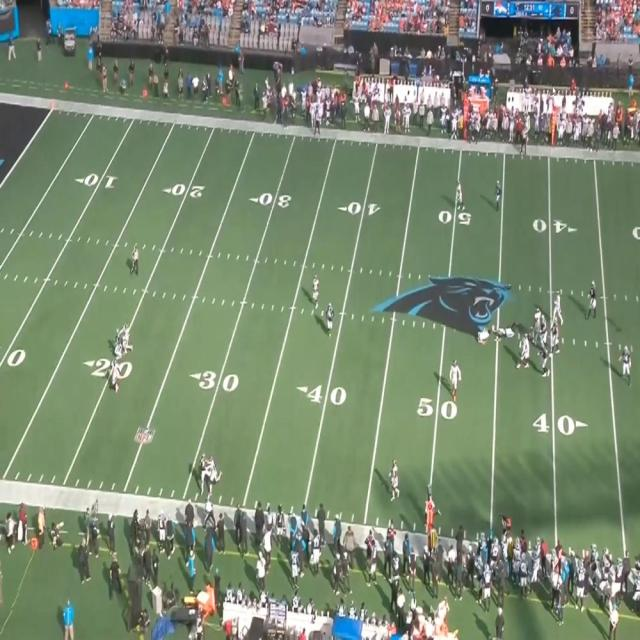db: (208, 456, 218, 498), (111, 358, 120, 397), (312, 276, 320, 313), (122, 320, 130, 356), (456, 182, 463, 210)
lb: (449, 360, 459, 398), (390, 460, 398, 497)
qb: (622, 344, 632, 380)
skill: (426, 484, 434, 522), (326, 300, 334, 336), (114, 330, 124, 358), (496, 180, 502, 211)
